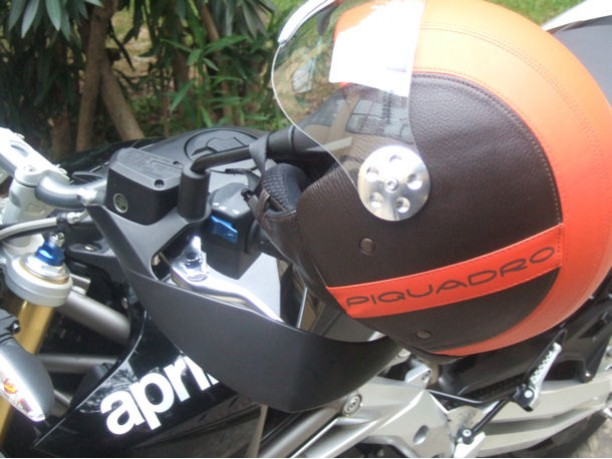helmet: (262, 2, 609, 345)
